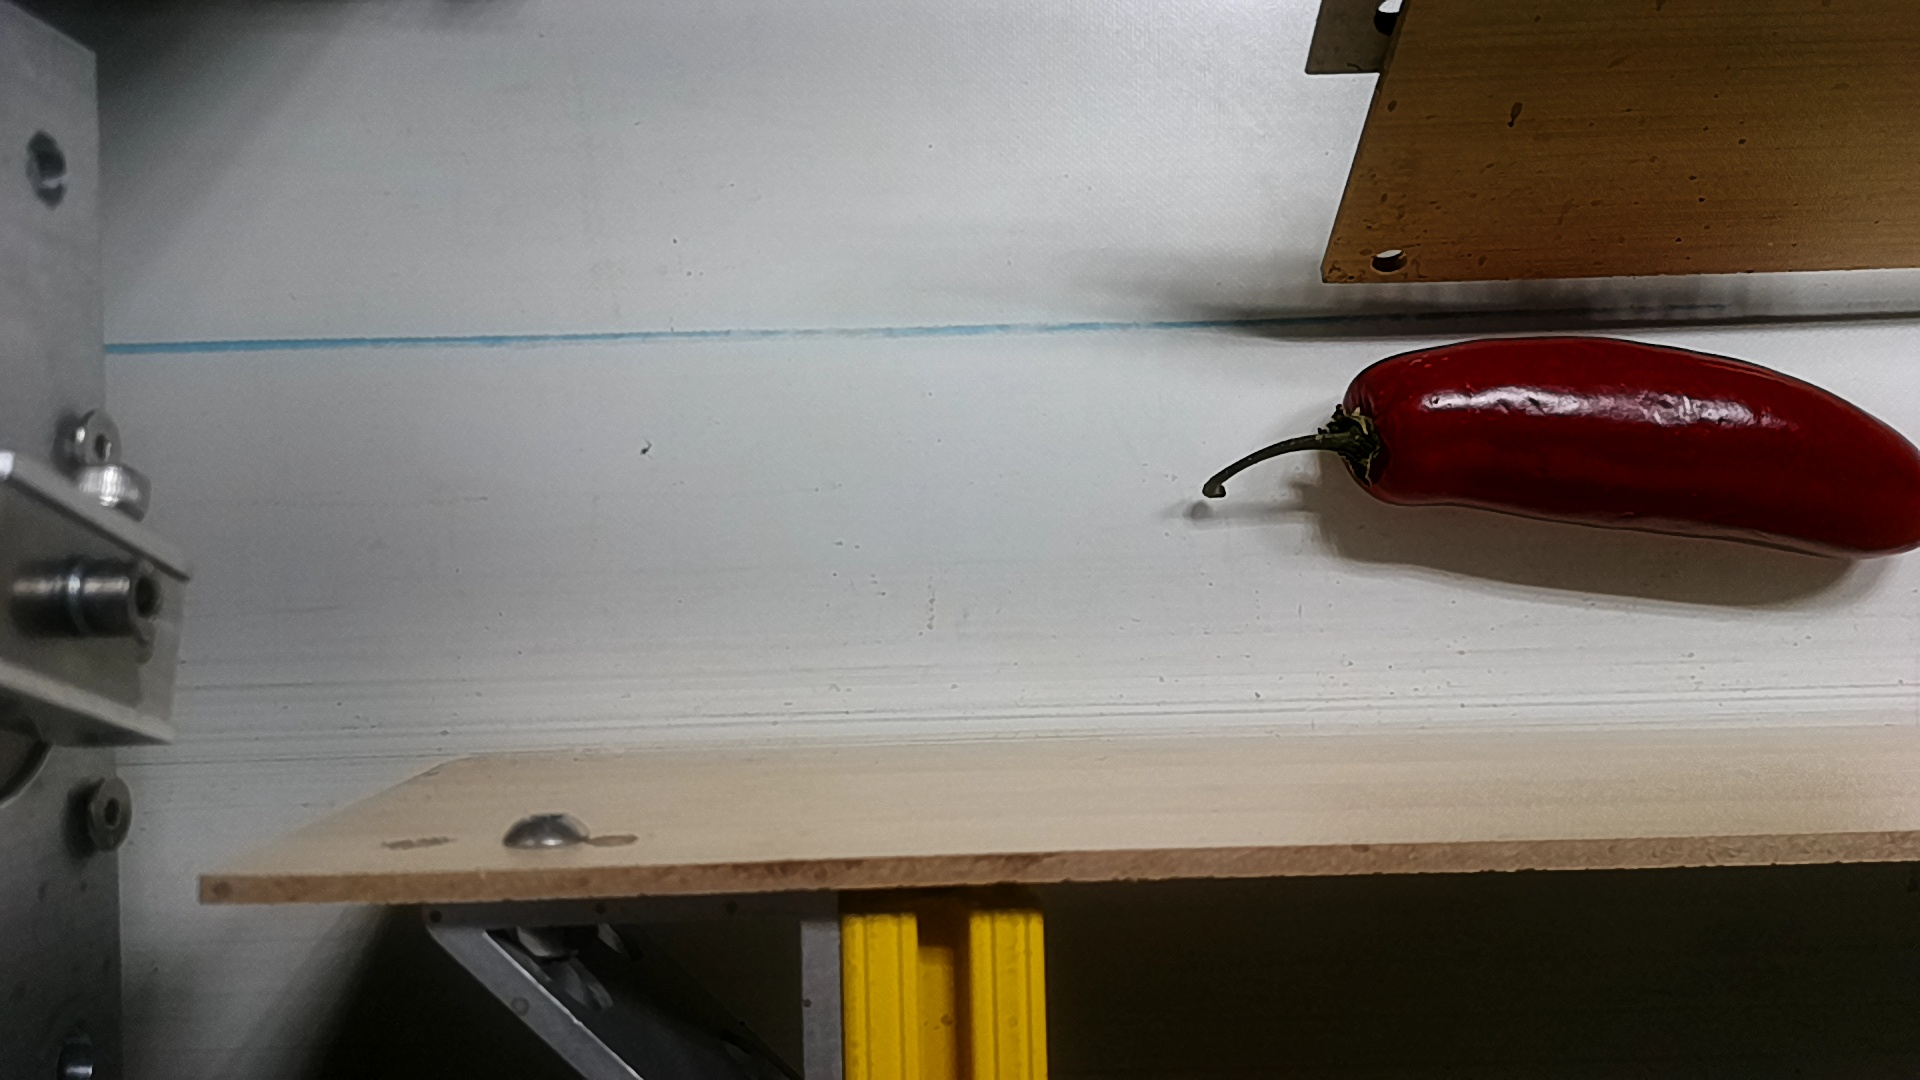Cut Point: (1316, 348, 1428, 516)
